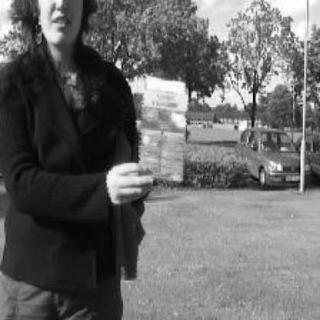other: (108, 139, 148, 277)
